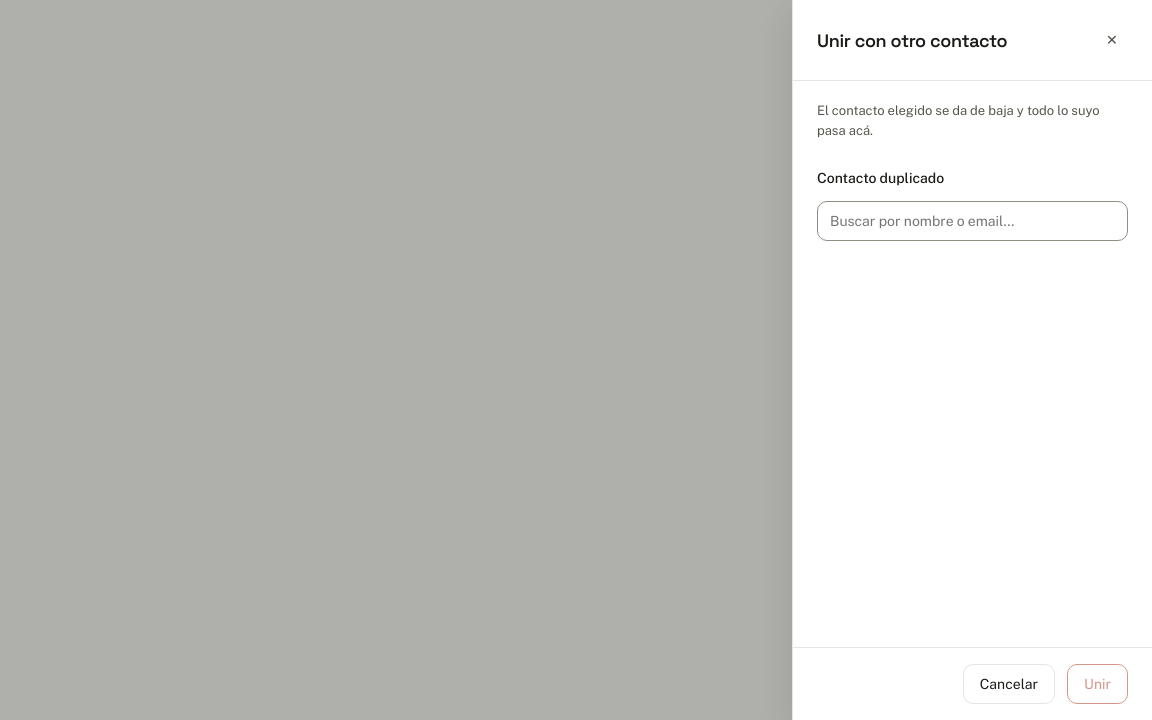
Test case: MergeContactDialog › muestra los dos lado a lado con los defaults y lo que se mueve
This screenshot has width=1152, height=720.
Step 1. Type "ana" into the field with placeholder "Buscar por nombre o email…" → (972, 221), box left=817, top=201, right=1128, bottom=241
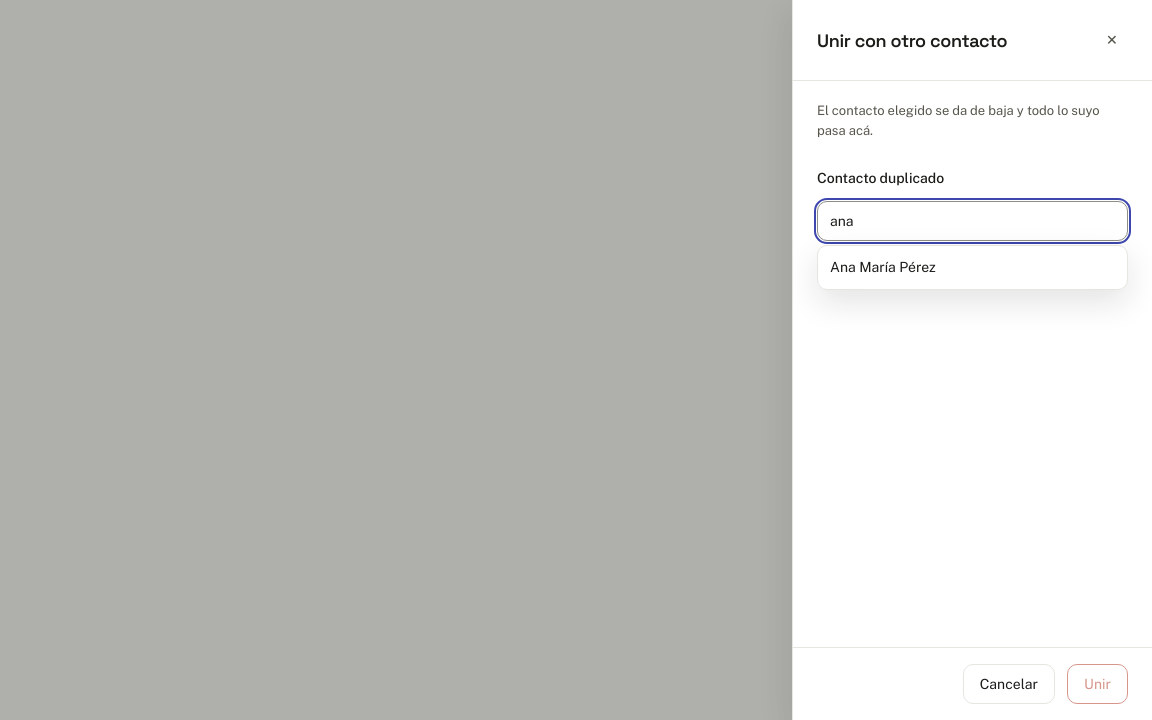
Step 2. Click the button "Ana María Pérez" → click(883, 267), box left=818, top=250, right=1127, bottom=285
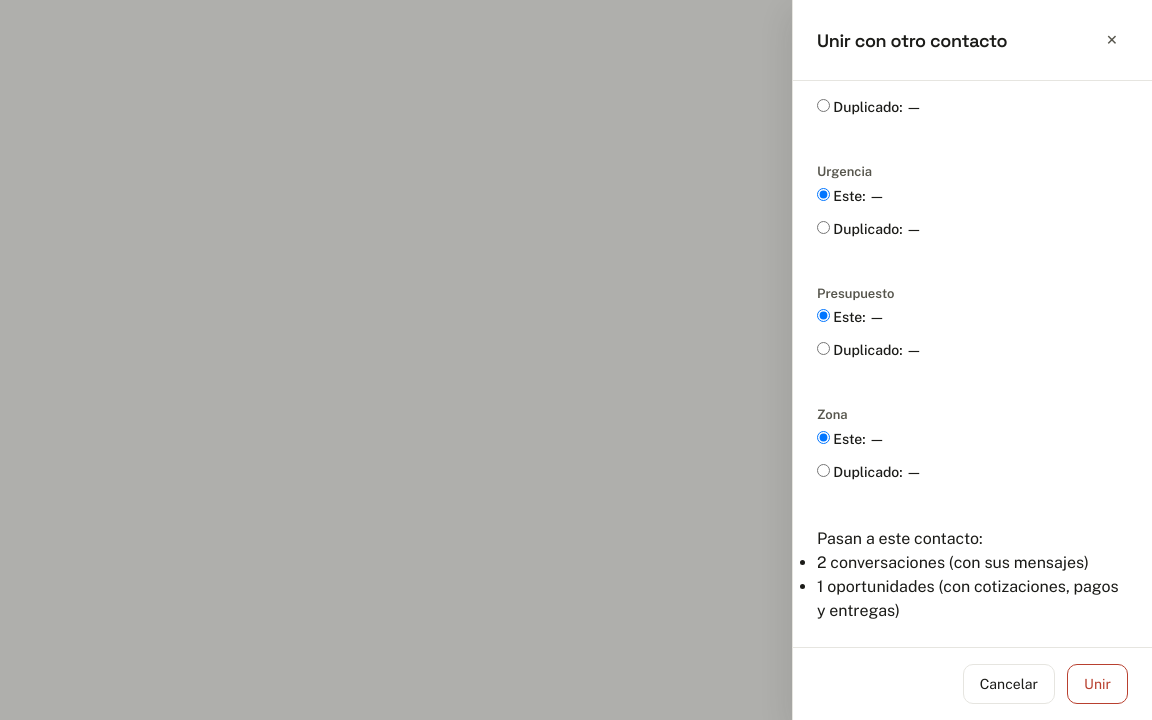
Expected: the list item "2 conversaciones (con sus mensajes)" is shown, left=817, top=550, right=1128, bottom=574
Expected: the list item "1 oportunidades (con cotizaciones, pagos y entregas)" is shown, left=817, top=574, right=1128, bottom=622
